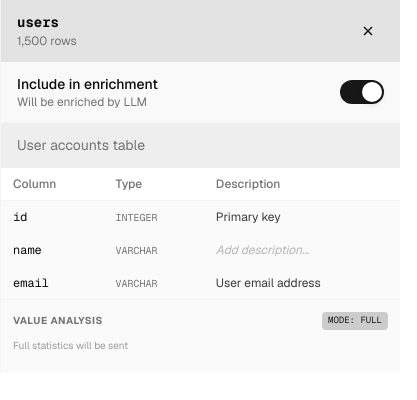
TableDetailPanel › Column description editing › enters edit mode when clicking on description
Click the text "Primary key": [248, 217] box [212,207,285,227]
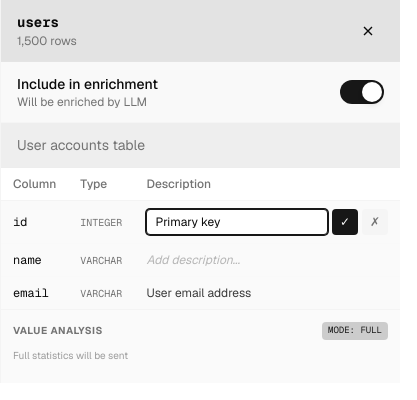
Expected: the field holds "Primary key", [146,209,328,235]
